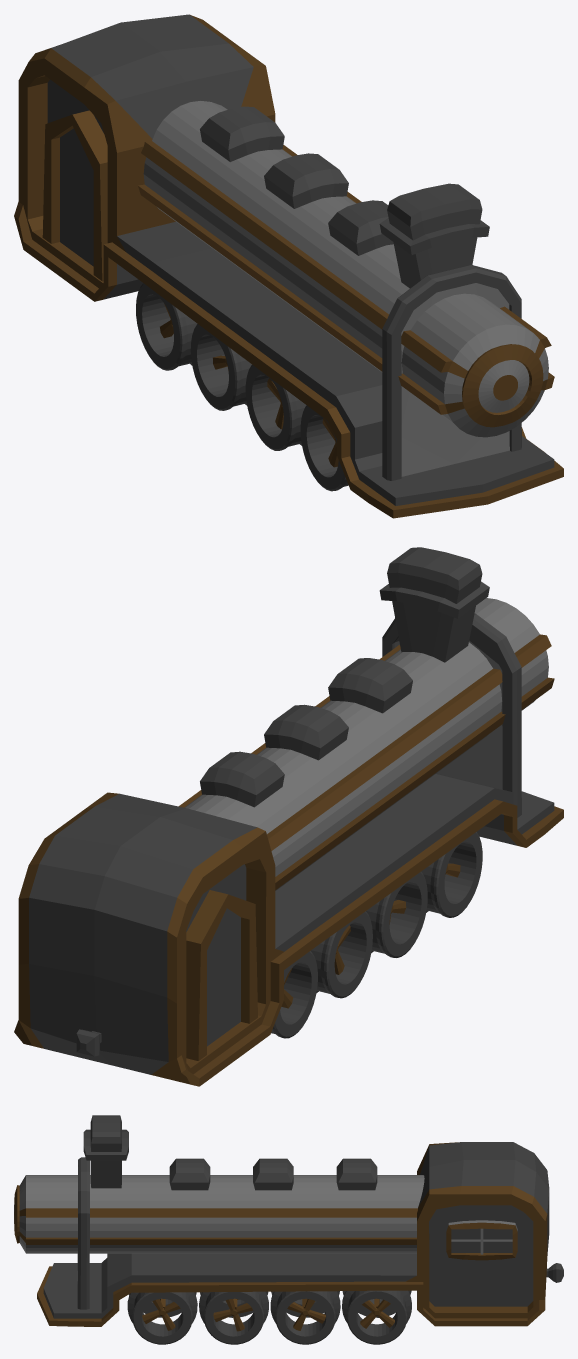
File: tremAdolescente.fbx
The picture shows the model from 3 angles, top to bottom: view 1: azimuth 30°, elevation 25°; view 2: azimuth 150°, elevation 25°; view 3: azimuth 270°, elevation 25°; orthographic projection. The views are drawn at different scales.
Parts seen in each view (by area): view 1: trem, Cylinder, RODAS1, RODAS2, RODAS3, RODAS4; view 2: trem, Cylinder, RODAS2, RODAS3, RODAS4, RODAS1; view 3: trem, Cylinder, RODAS1, RODAS2, RODAS3, RODAS4, janela.
Part boxes in pixels (box(x1,y1,x2,y2)): trem: box(14, 14, 563, 518); Cylinder: box(138, 101, 554, 437); RODAS1: box(136, 283, 197, 370); RODAS2: box(190, 324, 251, 410); RODAS3: box(245, 364, 306, 450); RODAS4: box(300, 405, 348, 491); trem: box(14, 613, 563, 1086); Cylinder: box(178, 547, 554, 890); RODAS2: box(310, 911, 372, 998); RODAS3: box(366, 872, 427, 957); RODAS4: box(421, 832, 482, 917); RODAS1: box(271, 951, 317, 1038); trem: box(37, 1142, 563, 1326); Cylinder: box(14, 1115, 424, 1253); RODAS1: box(342, 1290, 411, 1344); RODAS2: box(270, 1291, 340, 1344); RODAS3: box(199, 1291, 268, 1344); RODAS4: box(127, 1292, 197, 1344); janela: box(446, 1220, 517, 1260).
Size of the model in its own units: 222 by 923 by 378.
